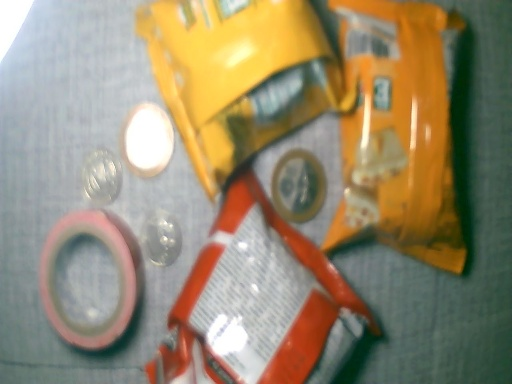metal: (119, 99, 177, 182), (270, 146, 324, 226), (140, 203, 181, 270), (82, 148, 119, 205)
plastic: (155, 172, 370, 384), (133, 1, 344, 206), (335, 1, 486, 279)
trash: (38, 208, 140, 348)
